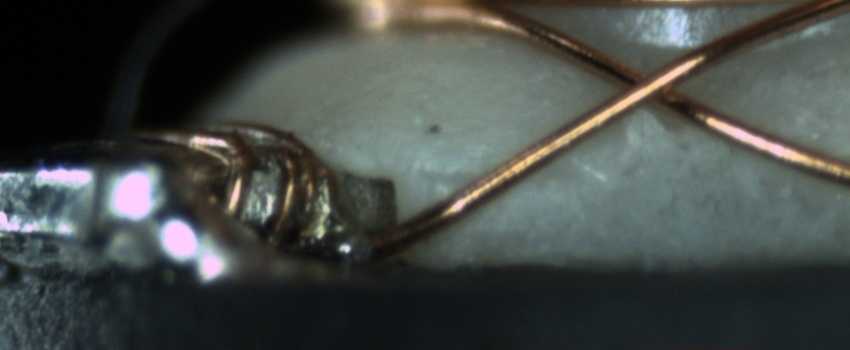CL: (597, 49, 703, 119)
DL: (420, 151, 551, 199)
TE: (145, 112, 340, 259)
